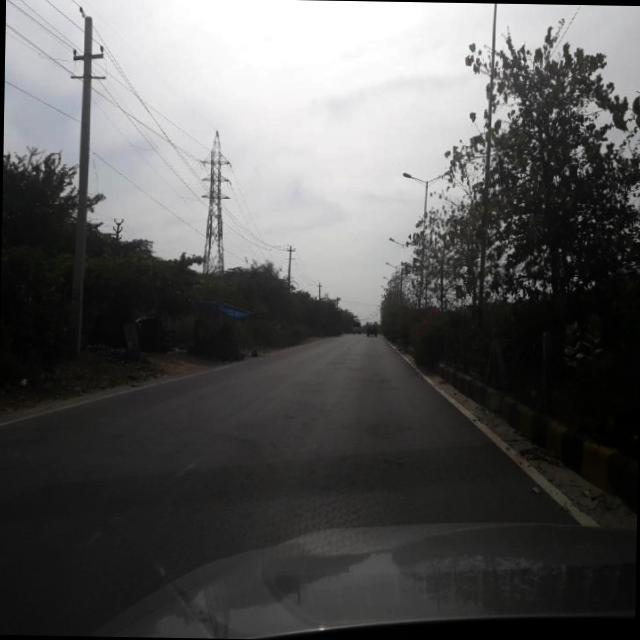crack: (218, 430, 286, 524), (322, 444, 398, 502)
